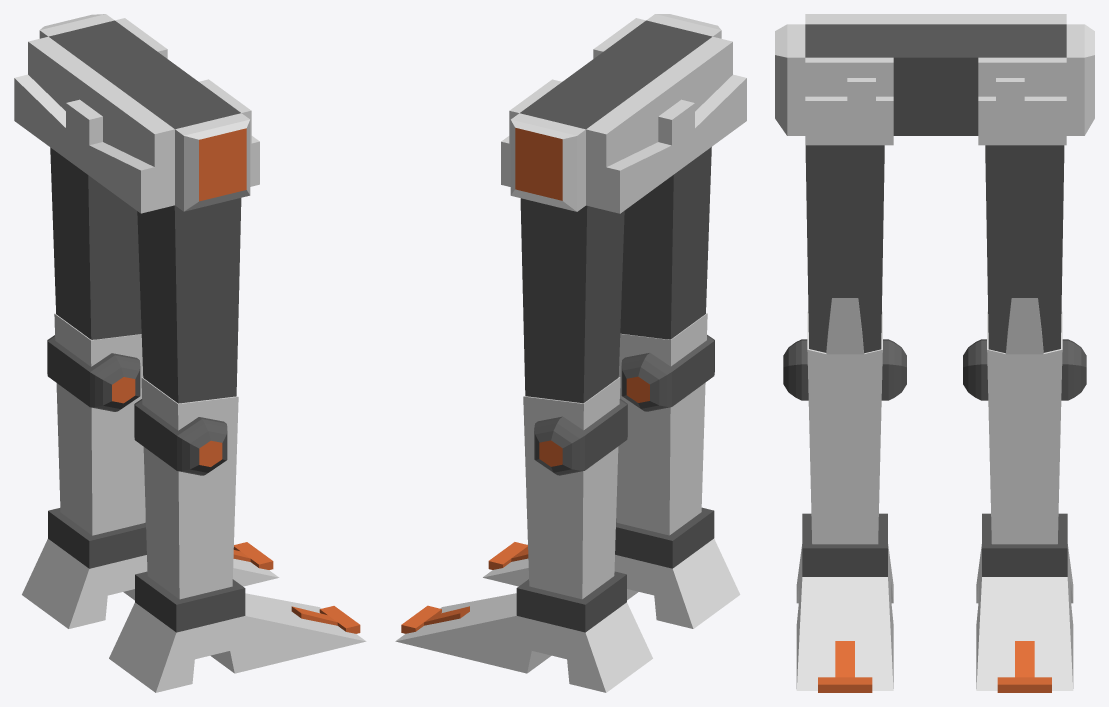
File: LegNormal.fbx
3 renders of one model, left to right at view 1: azimuth 30°, elevation 25°; view 2: azimuth 150°, elevation 25°; view 3: azimuth 270°, elevation 25°, orthographic. The views are drawn at different scales.
Parts seen in each view (by area): view 1: 立方体.007; view 2: 立方体.007; view 3: 立方体.007.
Boxes of the visible parts, x1,y1,x2,y2 form: 立方体.007: (14,14,366,692); 立方体.007: (395,14,746,692); 立方体.007: (775,14,1094,692).
Size of the model in its own units: 898 by 2109 by 1068.
